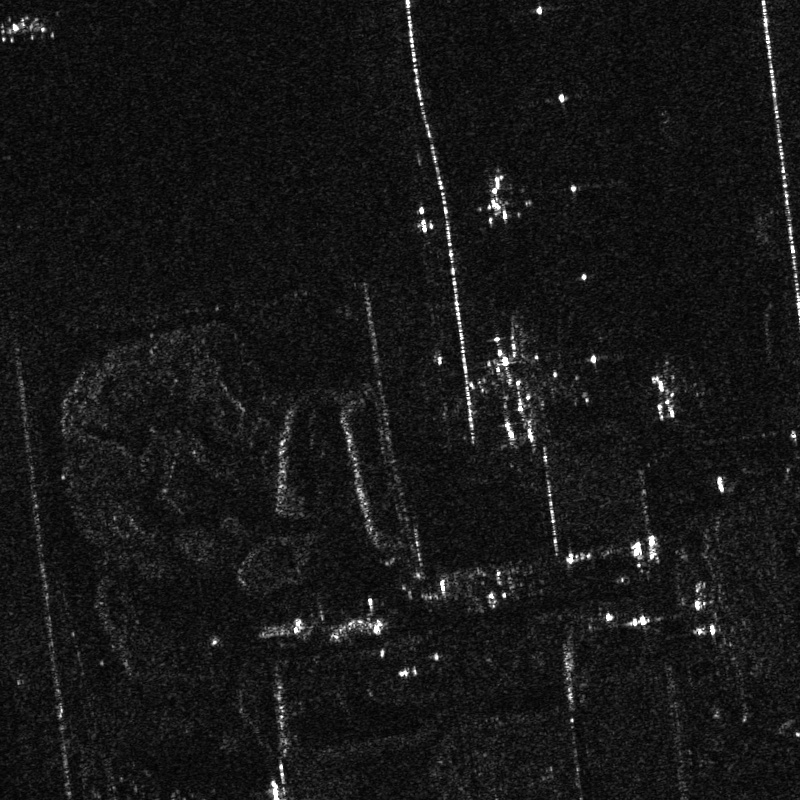A220: (642, 374, 686, 424)
other: (468, 329, 561, 440), (468, 172, 531, 229)
